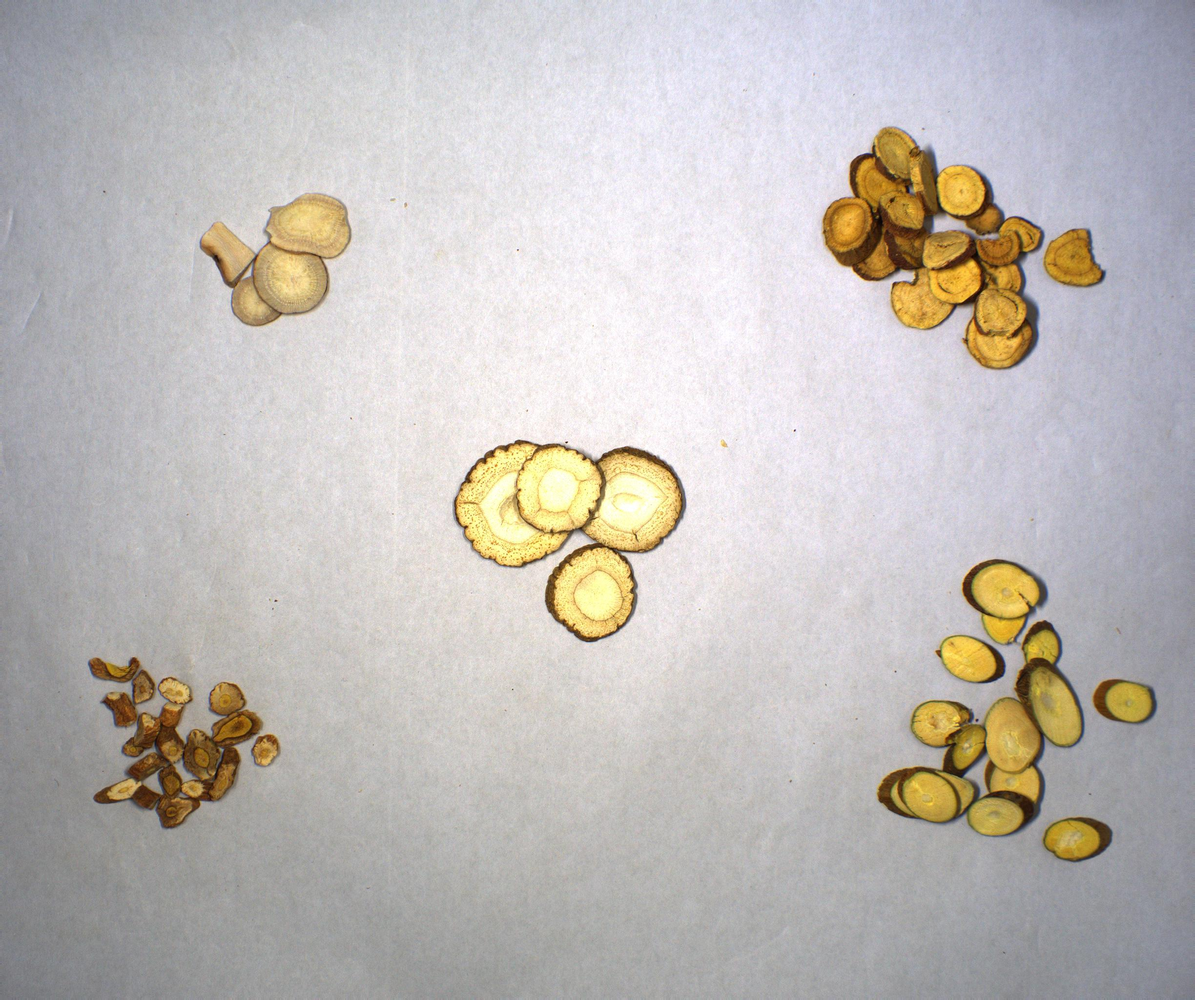baishao: (197, 189, 354, 329)
baizhi: (450, 439, 688, 647)
banlangen: (84, 654, 284, 833)
gancaopian: (820, 127, 1106, 373)
sangzhi: (878, 558, 1162, 865)
